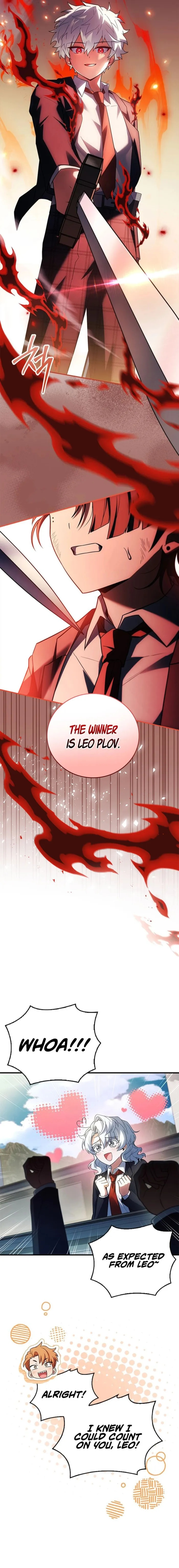bubbles: (27, 1365, 165, 1481), (45, 690, 142, 781), (3, 1000, 101, 1090), (87, 1222, 177, 1299)
